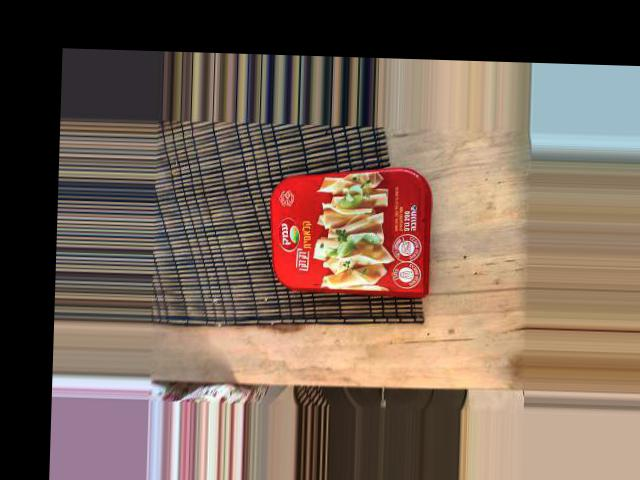cheese: (202, 113, 343, 286)
